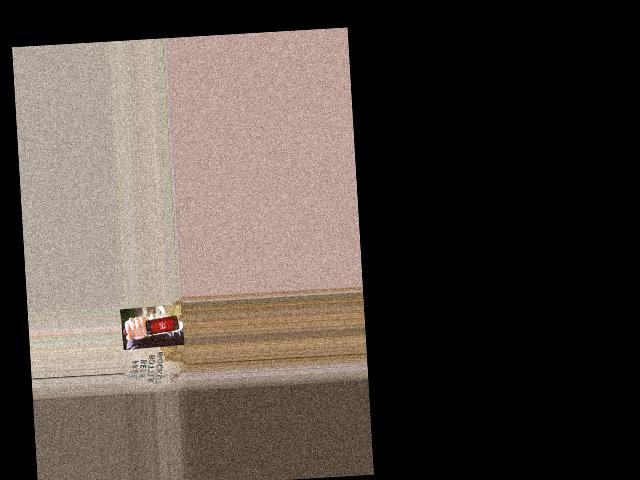beer: (123, 315, 179, 335)
